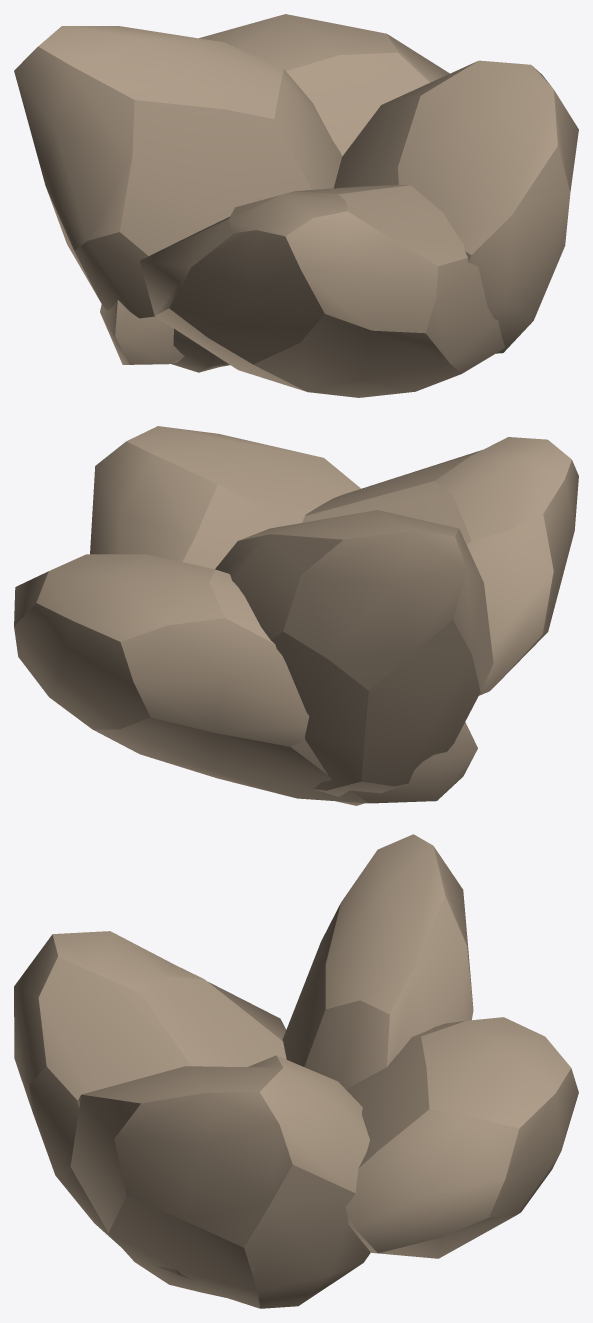
The model's file is rock3.fbx.
3 views of the same model, one above another, from view 1: azimuth 30°, elevation 25°; view 2: azimuth 150°, elevation 25°; view 3: azimuth 270°, elevation 25° (orthographic). The views are drawn at different scales.
Visible parts, largest first — view 1: rock3; view 2: rock3; view 3: rock3.
Part boxes in pixels (<box>): rock3: <box>14,14,578,397</box>; rock3: <box>14,426,578,805</box>; rock3: <box>14,834,578,1308</box>.
Size of the model in its own units: 249 by 171 by 271.
